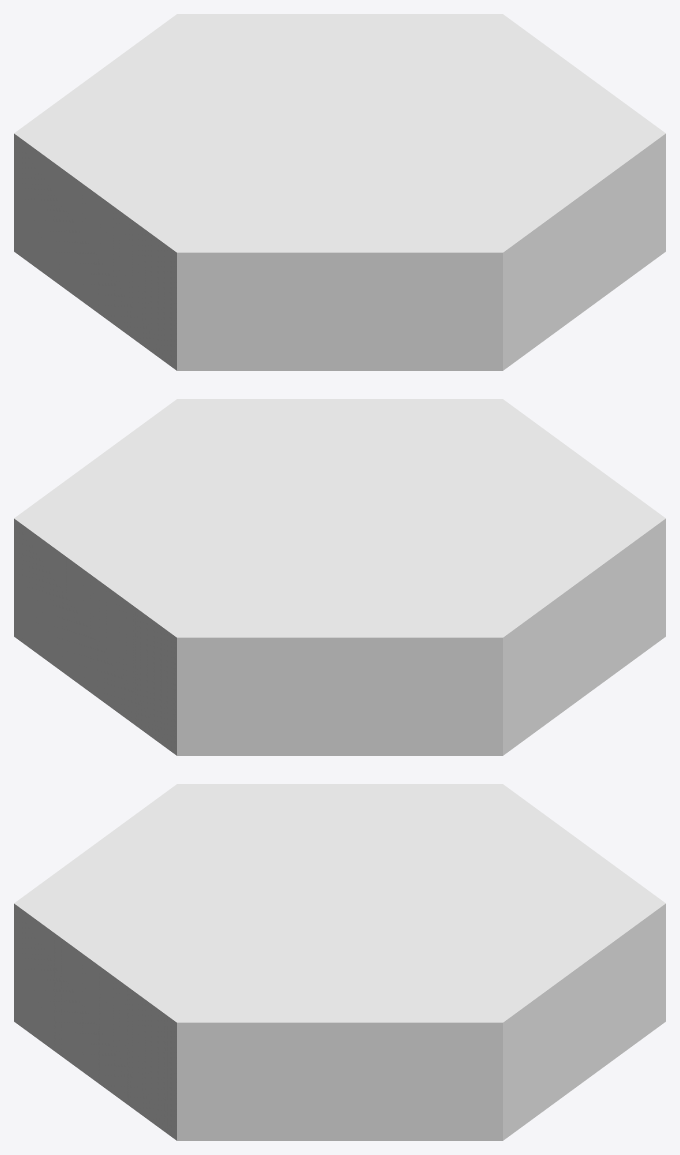
The model's file is TileHex_29.fbx.
The picture shows the model from 3 angles, top to bottom: view 1: azimuth 30°, elevation 25°; view 2: azimuth 150°, elevation 25°; view 3: azimuth 270°, elevation 25°; orthographic projection.
Parts seen in each view (by area): view 1: TileHex_29; view 2: TileHex_29; view 3: TileHex_29.
Boxes of the visible parts, left/top/right/bottom form: TileHex_29: left=14, top=14, right=665, bottom=370; TileHex_29: left=14, top=399, right=665, bottom=755; TileHex_29: left=14, top=784, right=665, bottom=1140.
Size of the model in its own units: 433 by 100 by 500.
